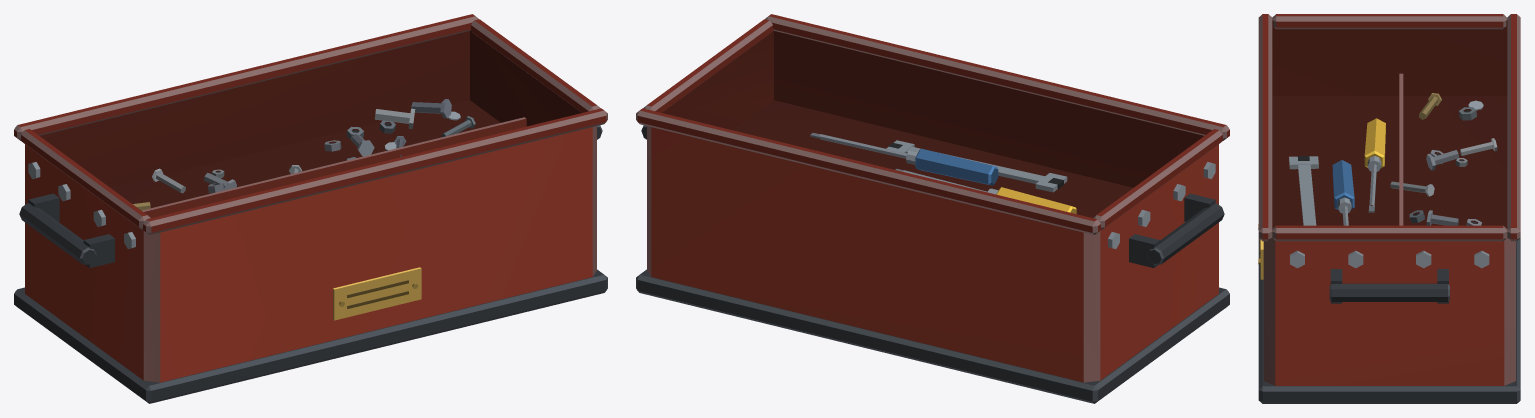
Rendered from toolbox.glb.
3 renders of one model, left to right at view 1: azimuth 30°, elevation 25°; view 2: azimuth 150°, elevation 25°; view 3: azimuth 270°, elevation 25°, orthographic. The views are drawn at different scales.
Visible parts, largest first — view 1: toolbox_steel, toolbox_brass; view 2: toolbox_steel, toolbox_wood; view 3: toolbox_steel, toolbox_wood.
Boxes of the visible parts, <box> form: toolbox_steel: <box>14,14,607,403</box>; toolbox_brass: <box>333,267,421,320</box>; toolbox_steel: <box>636,14,1229,403</box>; toolbox_wood: <box>915,148,1076,213</box>; toolbox_steel: <box>1258,14,1520,403</box>; toolbox_wood: <box>1332,118,1385,210</box>.
Size of the model in its own units: 0.6 by 0.2 by 0.2705.
